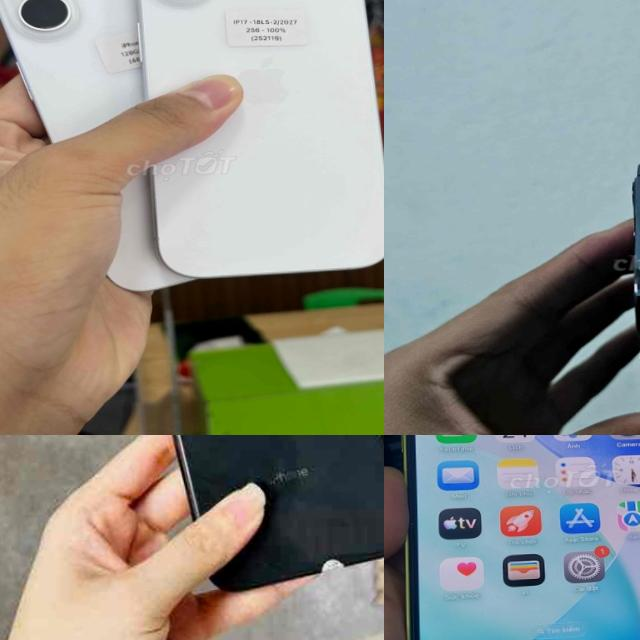gen_12_13: (614, 144, 640, 435)
gen_14: (390, 435, 640, 640)
gen_17: (134, 0, 384, 287)
gen_x_xs: (98, 435, 384, 611)
